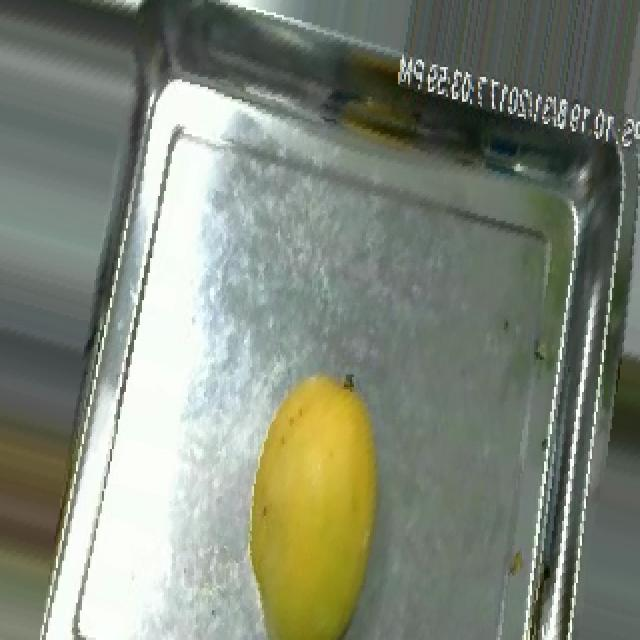fruit: (208, 354, 404, 638)
